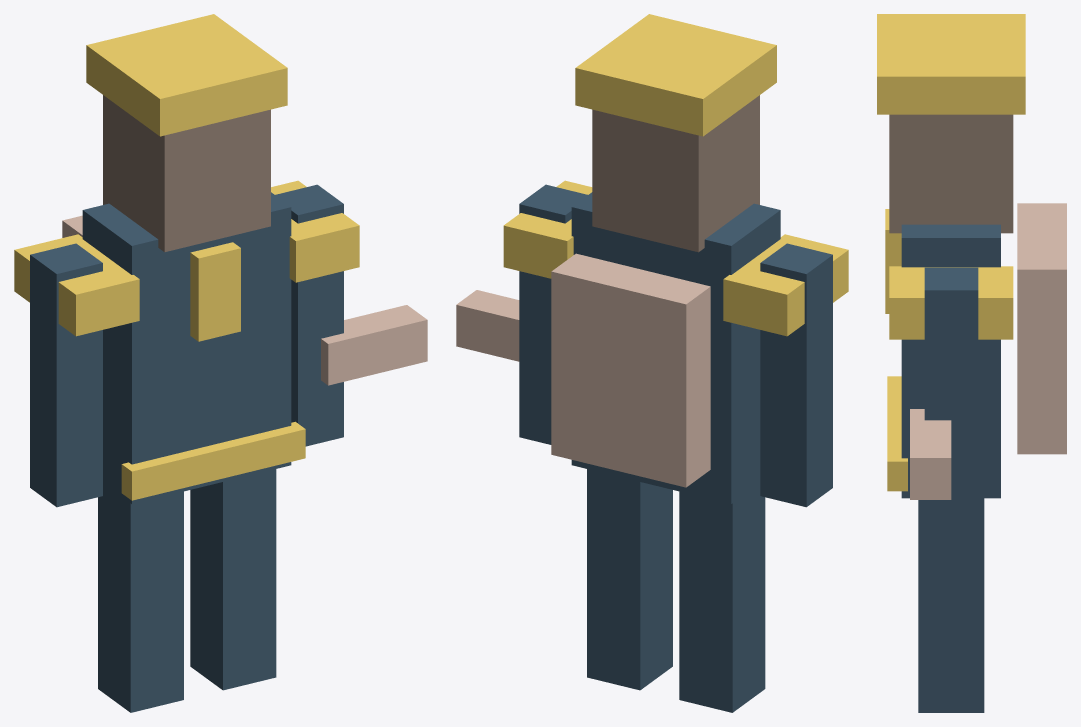
File: 12_rook_frostrelay_captain_near_gatehouse.glb
3 views of the same model, side by side, from view 1: azimuth 30°, elevation 25°; view 2: azimuth 150°, elevation 25°; view 3: azimuth 270°, elevation 25° (orthographic).
Parts seen in each view (by area): view 1: Rook Frostrelay, Captain near Gatehouse; view 2: Rook Frostrelay, Captain near Gatehouse; view 3: Rook Frostrelay, Captain near Gatehouse.
Boxes of the visible parts, box(x1,y1,x2,y2) form: Rook Frostrelay, Captain near Gatehouse: box(14, 14, 427, 712); Rook Frostrelay, Captain near Gatehouse: box(456, 14, 848, 712); Rook Frostrelay, Captain near Gatehouse: box(877, 14, 1066, 712).
Size of the model in its own units: 0.9626 by 1.59 by 0.432.
